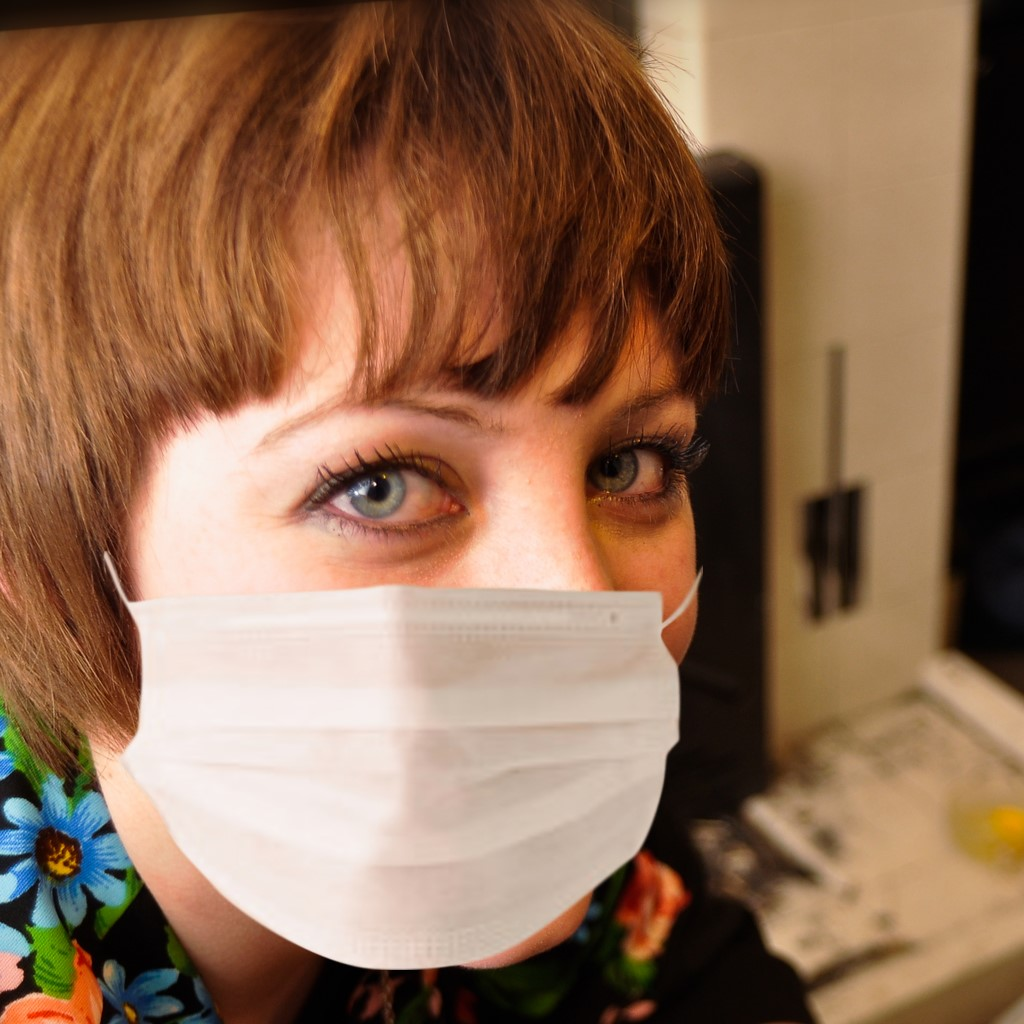con_mascara: (90, 135, 704, 961)
